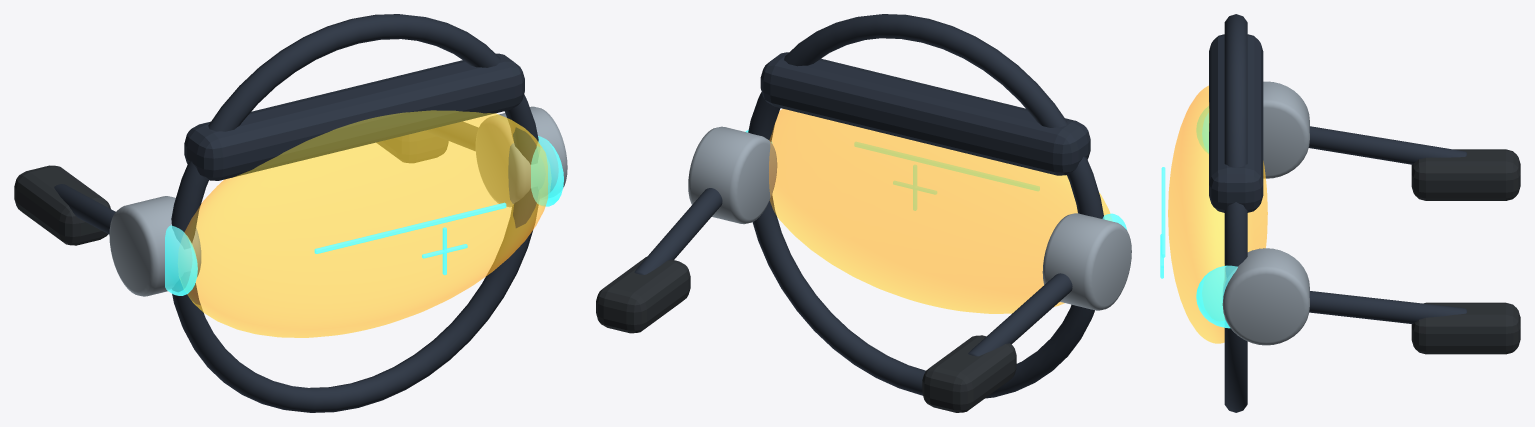
Rendered from cyber_helmet_visor.glb.
The picture shows the model from 3 angles, left to right: view 1: azimuth 30°, elevation 25°; view 2: azimuth 150°, elevation 25°; view 3: azimuth 270°, elevation 25°; orthographic projection. The views are drawn at different scales.
Parts seen in each view (by area): view 1: Visor_CurvedShield, Visor_OuterFrame, Visor_TopBrow, Visor_LeftHinge, Visor_RightHinge, Visor_LeftTemplePad, Visor_LeftSensor, Visor_RightSensor, Visor_RightTemplePad, Visor_LeftTemple, Visor_HUD_Horizon, Visor_RightTemple; view 2: Visor_CurvedShield, Visor_OuterFrame, Visor_TopBrow, Visor_LeftHinge, Visor_RightHinge, Visor_RightTemplePad, Visor_LeftTemplePad, Visor_LeftTemple, Visor_RightTemple, Visor_HUD_Horizon; view 3: Visor_CurvedShield, Visor_OuterFrame, Visor_RightHinge, Visor_TopBrow, Visor_LeftTemplePad, Visor_RightTemplePad, Visor_LeftHinge, Visor_RightTemple, Visor_LeftTemple, Visor_RightSensor, Visor_HUD_Horizon, Visor_LeftSensor.
Part boxes in pixels (x1=…): Visor_CurvedShield: x1=180, y1=110, x2=550, y2=337; Visor_OuterFrame: x1=171, y1=14, x2=538, y2=412; Visor_TopBrow: x1=184, y1=53, x2=524, y2=180; Visor_LeftHinge: x1=109, y1=196, x2=201, y2=296; Visor_RightHinge: x1=476, y1=106, x2=567, y2=206; Visor_LeftTemplePad: x1=14, y1=165, x2=110, y2=245; Visor_LeftSensor: x1=165, y1=225, x2=197, y2=295; Visor_RightSensor: x1=531, y1=136, x2=563, y2=206; Visor_RightTemplePad: x1=376, y1=131, x2=448, y2=162; Visor_LeftTemple: x1=54, y1=184, x2=115, y2=234; Visor_HUD_Horizon: x1=314, y1=202, x2=506, y2=253; Visor_RightTemple: x1=426, y1=121, x2=478, y2=150; Visor_CurvedShield: x1=769, y1=109, x2=1110, y2=313; Visor_OuterFrame: x1=748, y1=14, x2=1103, y2=398; Visor_TopBrow: x1=760, y1=52, x2=1090, y2=175; Visor_LeftHinge: x1=1042, y1=213, x2=1131, y2=310; Visor_RightHinge: x1=688, y1=126, x2=777, y2=224; Visor_RightTemplePad: x1=596, y1=257, x2=690, y2=333; Visor_LeftTemplePad: x1=922, y1=335, x2=1016, y2=412; Visor_LeftTemple: x1=968, y1=273, x2=1072, y2=356; Visor_RightTemple: x1=634, y1=188, x2=722, y2=274; Visor_HUD_Horizon: x1=854, y1=142, x2=1039, y2=190; Visor_CurvedShield: x1=1168, y1=85, x2=1267, y2=343; Visor_OuterFrame: x1=1224, y1=14, x2=1247, y2=412; Visor_RightHinge: x1=1222, y1=248, x2=1309, y2=345; Visor_TopBrow: x1=1209, y1=34, x2=1263, y2=212; Visor_LeftTemplePad: x1=1411, y1=149, x2=1520, y2=200; Visor_RightTemplePad: x1=1411, y1=302, x2=1520, y2=354; Visor_LeftHinge: x1=1263, y1=81, x2=1309, y2=178; Visor_RightTemple: x1=1309, y1=291, x2=1466, y2=323; Visor_LeftTemple: x1=1308, y1=126, x2=1466, y2=164; Visor_RightSensor: x1=1196, y1=265, x2=1237, y2=328; Visor_HUD_Horizon: x1=1161, y1=167, x2=1165, y2=257; Visor_LeftSensor: x1=1196, y1=106, x2=1208, y2=153.
Bounding box in the file's own units: 0.371 × 0.33 × 0.2975.
